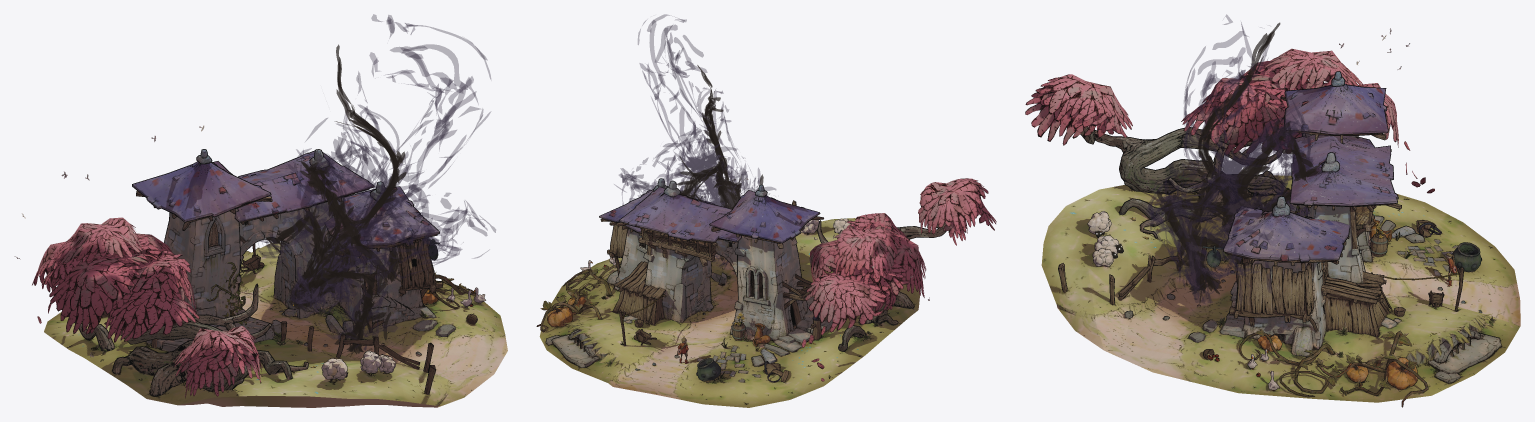
File: ftm.glb
3 renders of one model, left to right at view 1: azimuth 30°, elevation 25°; view 2: azimuth 150°, elevation 25°; view 3: azimuth 270°, elevation 25°, orthographic. The views are drawn at different scales.
Parts seen in each view (by area): view 1: ground, monster 001, roof, tree leaves, piedras, monster, outline, madera, dec, tree leaves inv; view 2: ground, piedras, tree leaves, roof, monster 001, madera, outline, dec, monster; view 3: ground, roof, monster 001, tree leaves, madera, piedras, outline, monster, dec.
Part boxes in pixels (<box>): ground: <box>44,243,507,407</box>; monster 001: <box>258,14,495,350</box>; roof: <box>75,149,439,396</box>; tree leaves: <box>35,217,261,398</box>; piedras: <box>145,197,455,355</box>; monster: <box>262,44,417,354</box>; outline: <box>74,149,485,394</box>; madera: <box>102,189,442,394</box>; dec: <box>14,125,485,382</box>; tree leaves inv: <box>32,224,261,377</box>; ground: <box>539,218,919,407</box>; piedras: <box>546,228,832,382</box>; tree leaves: <box>801,178,996,381</box>; roof: <box>599,179,945,351</box>; monster 001: <box>614,14,775,274</box>; madera: <box>601,200,827,382</box>; outline: <box>536,178,946,382</box>; dec: <box>537,178,929,382</box>; monster: <box>676,65,769,274</box>; ground: <box>1041,175,1520,402</box>; roof: <box>1081,72,1397,261</box>; monster 001: <box>1146,14,1328,305</box>; tree leaves: <box>1025,48,1416,177</box>; madera: <box>1058,97,1463,337</box>; piedras: <box>1125,133,1501,383</box>; outline: <box>1058,71,1500,407</box>; monster: <box>1156,22,1319,303</box>; dec: <box>1082,28,1496,406</box>.
Size of what is drawn, in the model's own units: 24 by 18.53 by 22.64.
Materials: 10 (6 with a texture image).
